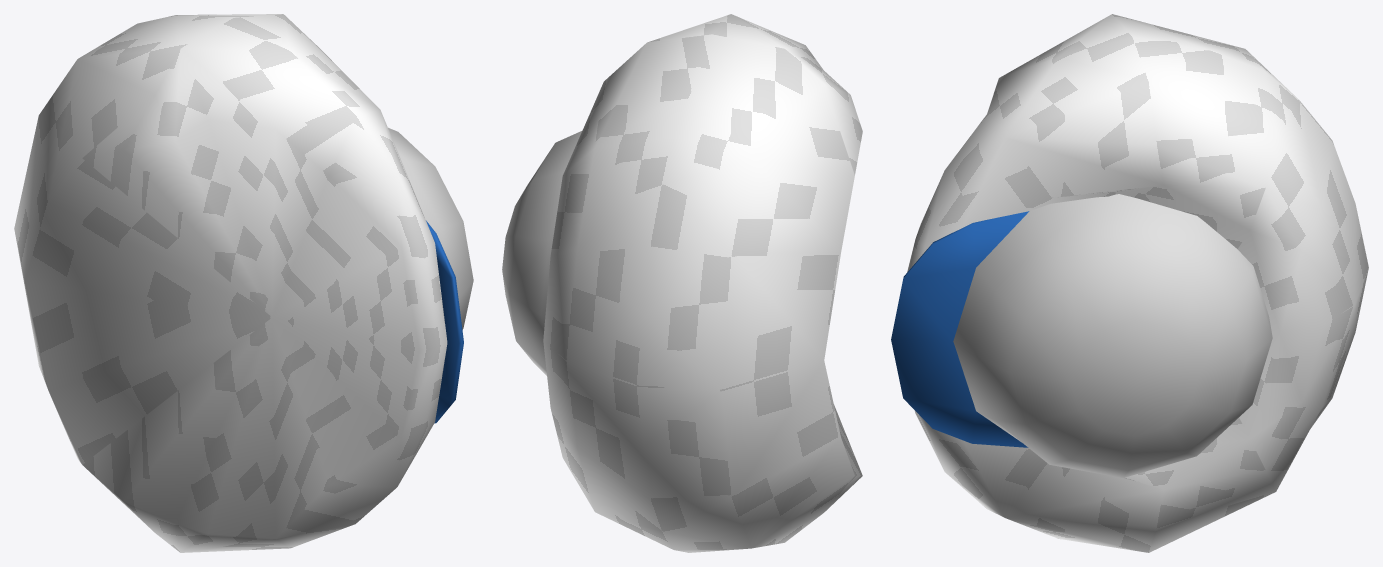
The model's file is hlmt_afro_cap.dae.
3 views of the same model, side by side, from view 1: azimuth 30°, elevation 25°; view 2: azimuth 150°, elevation 25°; view 3: azimuth 270°, elevation 25° (orthographic). The views are drawn at different scales.
Visible parts, largest first — view 1: hlmt_afro_cap; view 2: hlmt_afro_cap; view 3: hlmt_afro_cap.
Part boxes in pixels (x1,y1,x2,y2): hlmt_afro_cap: [14, 14, 473, 552]; hlmt_afro_cap: [502, 14, 862, 552]; hlmt_afro_cap: [891, 14, 1368, 552].
Size of the model in its own units: 23.09 by 31.94 by 27.44.
2 materials, 2 textured.
